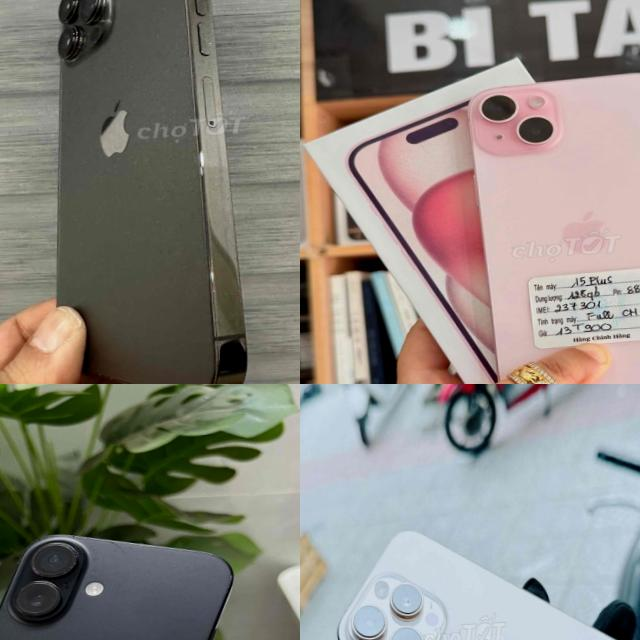scratch: (66, 518, 138, 584)
